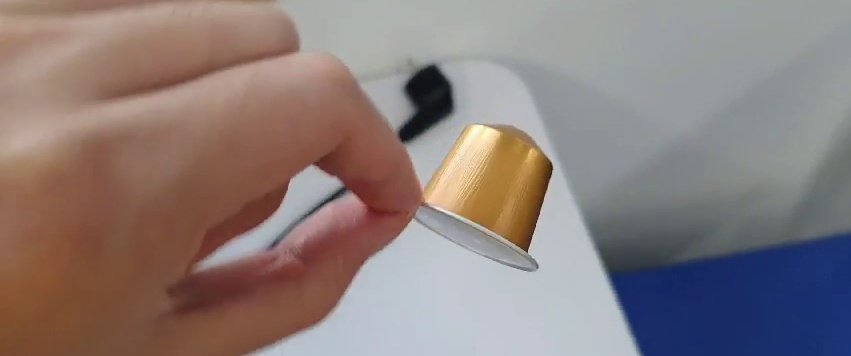capsule_8: (409, 119, 553, 274)
